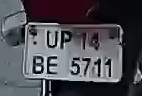1: (104, 56, 114, 82), (94, 56, 103, 80), (79, 30, 88, 53)
4: (89, 31, 103, 53)
5: (71, 55, 81, 77)
7: (81, 55, 92, 77)
B: (30, 53, 45, 74)
E: (45, 54, 59, 76)
P: (59, 29, 72, 54)
U: (44, 29, 58, 51)
